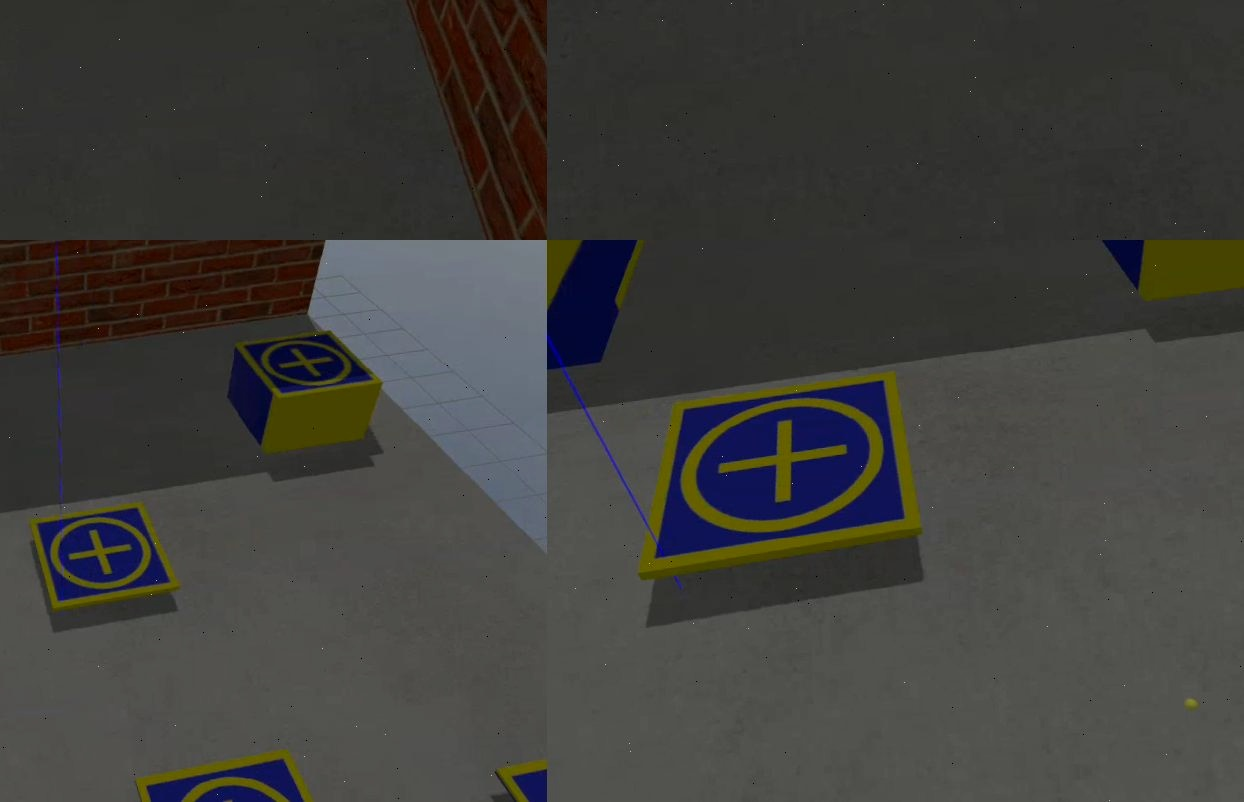large_base: (548, 241, 675, 389)
small_base: (623, 371, 929, 585), (30, 501, 184, 612), (138, 743, 361, 802), (236, 328, 384, 408)
